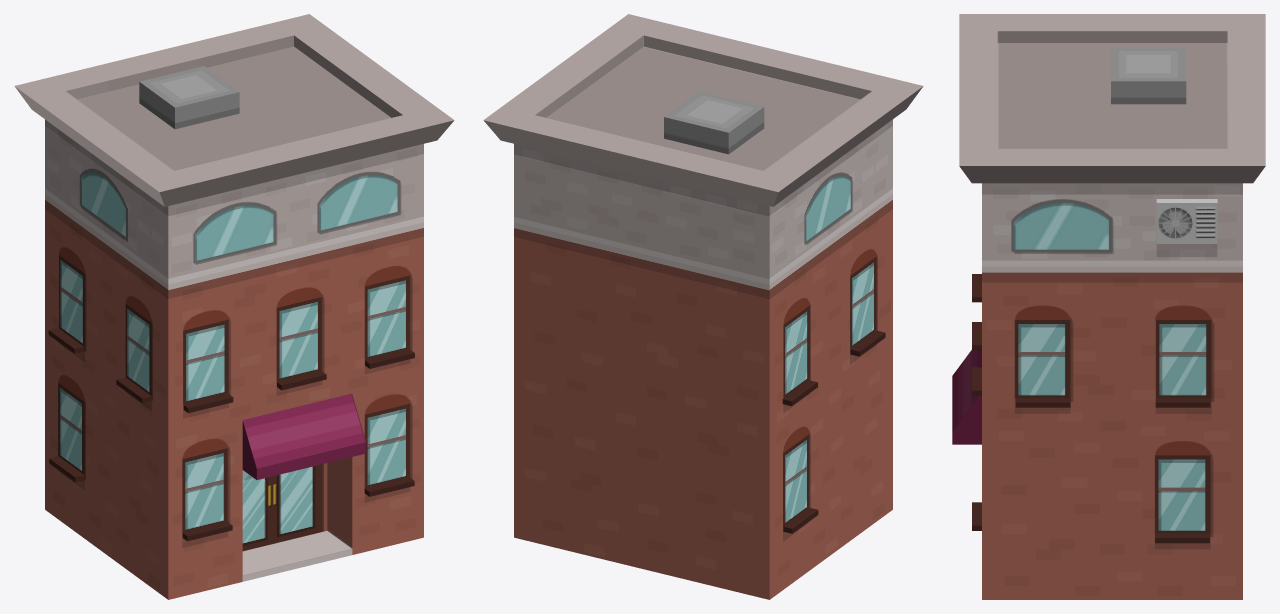
Rendered from city_building_04.fbx.
The picture shows the model from 3 angles, left to right: view 1: azimuth 30°, elevation 25°; view 2: azimuth 150°, elevation 25°; view 3: azimuth 270°, elevation 25°; orthographic projection. The views are drawn at different scales.
Parts seen in each view (by area): view 1: city:polySurface332; view 2: city:polySurface332; view 3: city:polySurface332.
Boxes of the visible parts, x1,y1,x2,y2 form: city:polySurface332: (14,14,454,599); city:polySurface332: (483,14,923,599); city:polySurface332: (952,14,1265,599).
Size of the model in its own units: 6.16 by 8.6 by 5.37.
